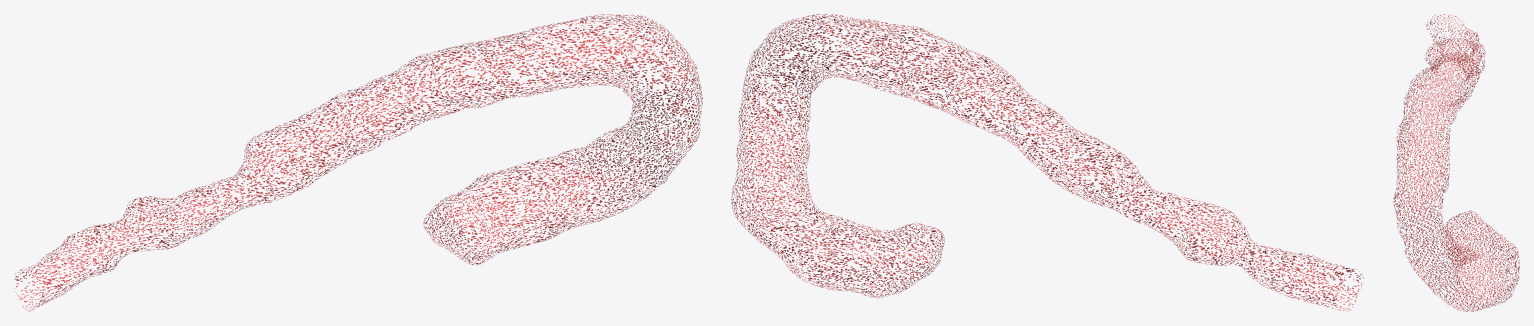
File: aorta.glb
3 renders of one model, left to right at view 1: azimuth 30°, elevation 25°; view 2: azimuth 150°, elevation 25°; view 3: azimuth 270°, elevation 25°, orthographic. The views are drawn at different scales.
Bounding box in the file's own units: 255 × 93.57 × 55.89.
